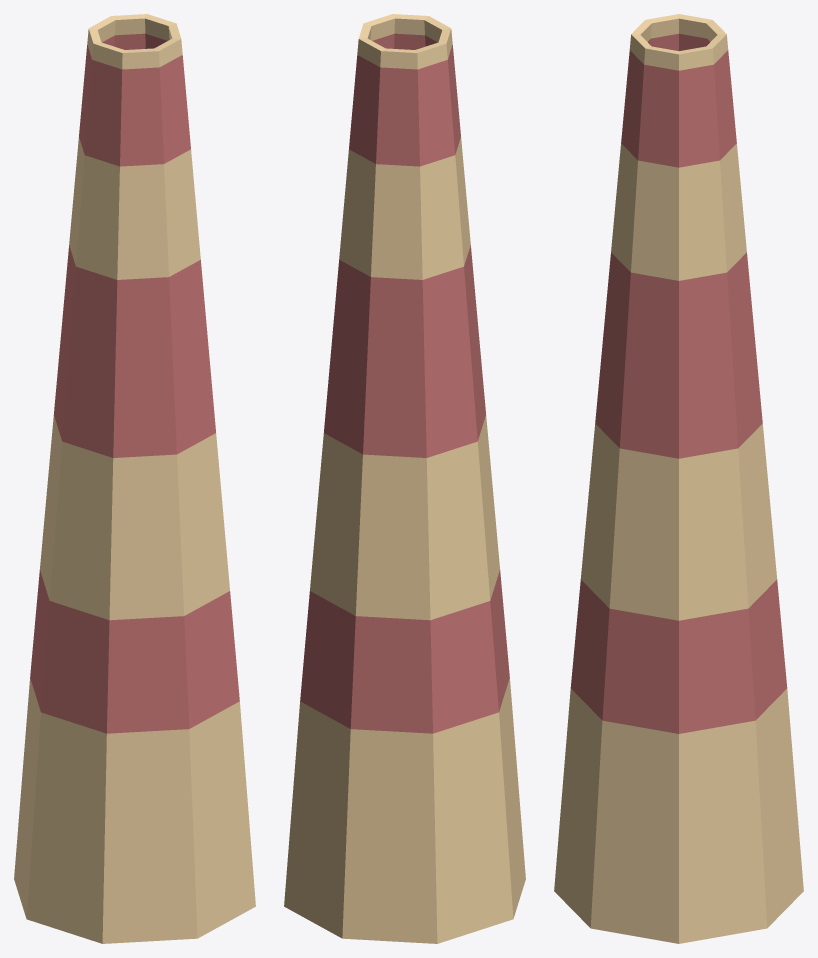
File: Tower.fbx
The picture shows the model from 3 angles, left to right: view 1: azimuth 30°, elevation 25°; view 2: azimuth 150°, elevation 25°; view 3: azimuth 270°, elevation 25°; orthographic projection.
Visible parts, largest first — view 1: Tower; view 2: Tower; view 3: Tower.
Boxes of the visible parts, left/top/right/bottom form: Tower: left=14, top=14, right=255, bottom=943; Tower: left=284, top=14, right=525, bottom=943; Tower: left=554, top=14, right=803, bottom=943.
Bounding box in the file's own units: 46.51 × 176 × 46.51.
